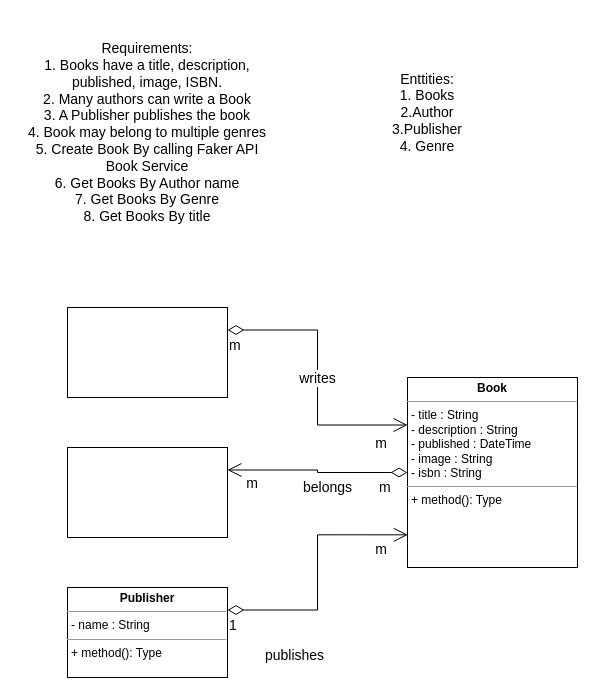
The diagram is 595 pixels wide and 695 high, and some of its shapes have lost their labels. Here are the shapes that lost their labels. From the top down, the centre of each, then its label:
At point (147, 352): "Author - name : String + method(): Type".
At point (147, 492): "Genre - name : String + method(): Type".
